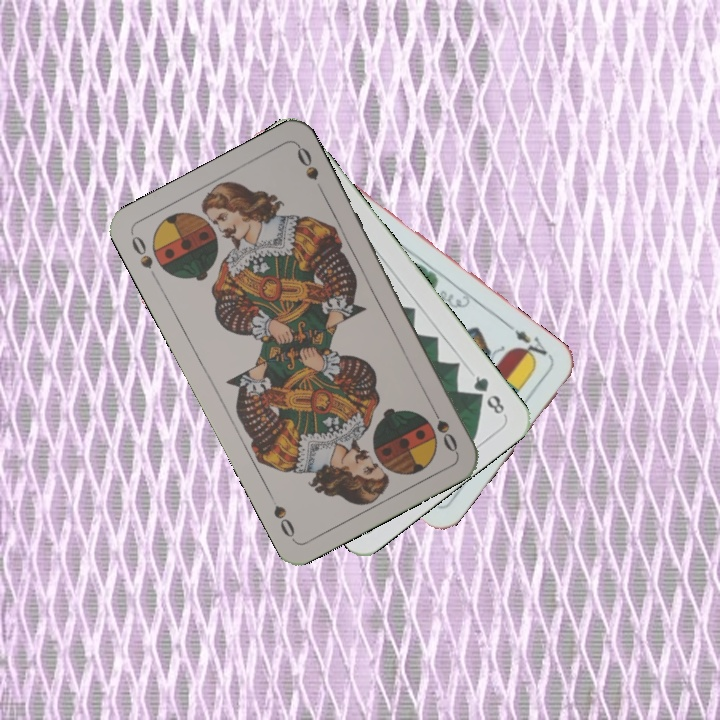EA: (503, 322, 550, 365)
G8: (469, 371, 508, 417)
SO: (426, 400, 460, 455), (127, 231, 156, 271)
